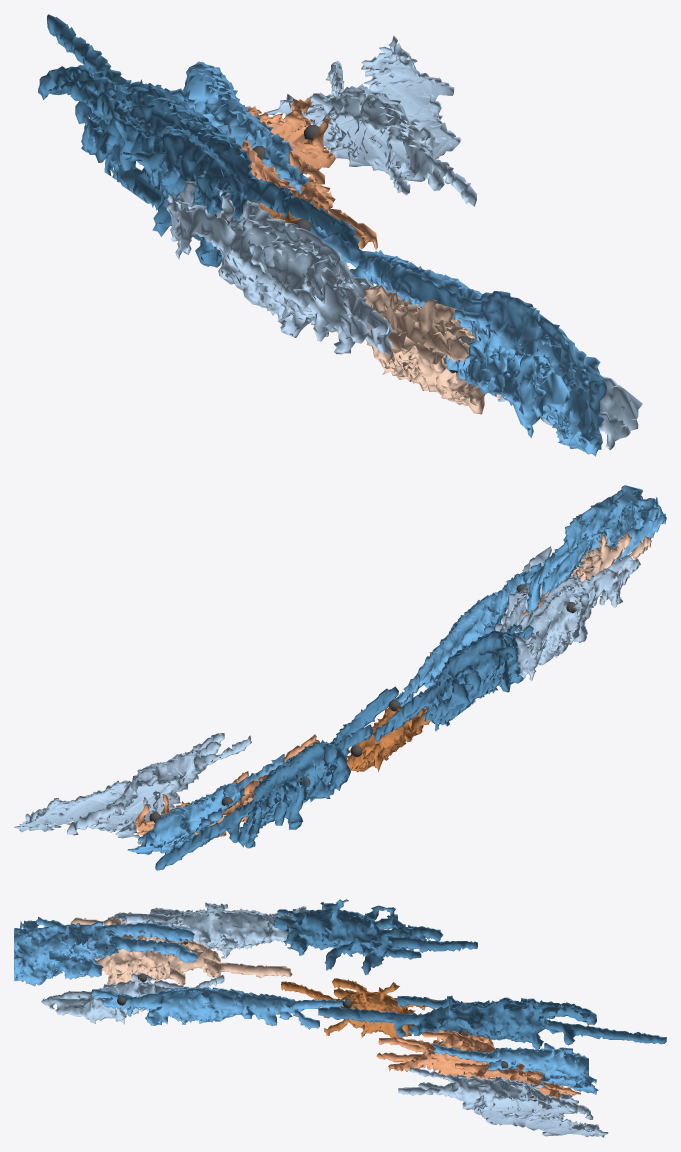
File: sample_2_1_ultrasonic_cleaned_group_1.glb
3 views of the same model, one above another, from view 1: azimuth 30°, elevation 25°; view 2: azimuth 150°, elevation 25°; view 3: azimuth 270°, elevation 25° (orthographic). The views are drawn at different scales.
Visible parts, largest first — view 1: osteocyte_160_elongated, osteocyte_134_elongated, osteocyte_23_elongated, osteocyte_140_elongated, osteocyte_61_elongated, osteocyte_117_round, osteocyte_26_elongated, osteocyte_18_round, osteocyte_77_elongated, osteocyte_82_elongated; view 2: osteocyte_61_elongated, osteocyte_23_elongated, osteocyte_140_elongated, osteocyte_160_elongated, osteocyte_134_elongated, osteocyte_82_elongated, osteocyte_26_elongated, osteocyte_55_round, osteocyte_117_round, osteocyte_18_round, osteocyte_77_elongated; view 3: osteocyte_61_elongated, osteocyte_160_elongated, osteocyte_140_elongated, osteocyte_23_elongated, osteocyte_82_elongated, osteocyte_134_elongated, osteocyte_18_round, osteocyte_117_round, osteocyte_26_elongated, osteocyte_77_elongated, osteocyte_55_round.
Boxes of the visible parts, box(x1,y1,x2,y2) form: osteocyte_160_elongated: box(368, 255, 606, 456); osteocyte_134_elongated: box(166, 181, 392, 355); osteocyte_23_elongated: box(264, 35, 477, 206); osteocyte_140_elongated: box(70, 81, 246, 267); osteocyte_61_elongated: box(38, 14, 359, 248); osteocyte_117_round: box(311, 285, 501, 414); osteocyte_26_elongated: box(164, 61, 308, 193); osteocyte_18_round: box(226, 97, 377, 250); osteocyte_77_elongated: box(488, 374, 642, 450); osteocyte_82_elongated: box(308, 219, 482, 296); osteocyte_61_elongated: box(155, 686, 398, 870); osteocyte_23_elongated: box(14, 733, 251, 838); osteocyte_140_elongated: box(374, 623, 533, 742); osteocyte_160_elongated: box(527, 485, 666, 613); osteocyte_134_elongated: box(512, 554, 640, 681); osteocyte_82_elongated: box(393, 563, 541, 706); osteocyte_26_elongated: box(127, 753, 284, 854); osteocyte_55_round: box(346, 701, 446, 772); osteocyte_117_round: box(521, 532, 651, 619); osteocyte_18_round: box(135, 734, 322, 844); osteocyte_77_elongated: box(494, 546, 552, 631); osteocyte_61_elongated: box(318, 995, 666, 1048); osteocyte_160_elongated: box(14, 916, 197, 986); osteocyte_140_elongated: box(273, 899, 477, 975); osteocyte_23_elongated: box(398, 1066, 608, 1137); osteocyte_82_elongated: box(92, 987, 344, 1029); osteocyte_134_elongated: box(108, 902, 306, 958); osteocyte_18_round: box(376, 1028, 580, 1097); osteocyte_117_round: box(70, 917, 292, 985); osteocyte_26_elongated: box(433, 1043, 598, 1094); osteocyte_77_elongated: box(41, 973, 224, 1024); osteocyte_55_round: box(281, 978, 437, 1037).
Bounding box in the file's own units: 76.91 × 30.11 × 161.
